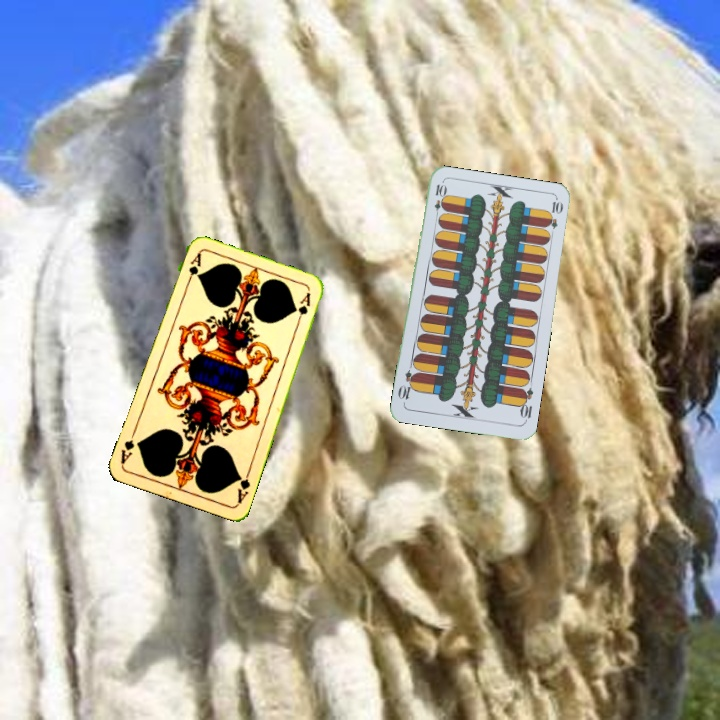E10: (515, 384, 536, 425), (430, 180, 447, 221)
GA: (182, 249, 204, 289), (233, 466, 253, 507)
